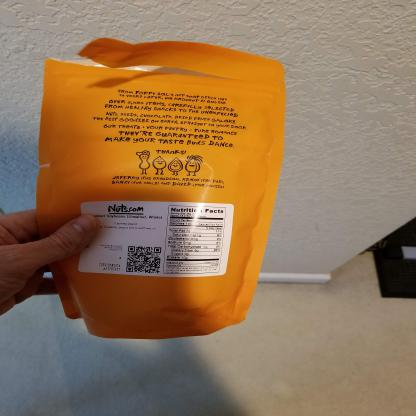qr: (121, 243, 164, 274)
